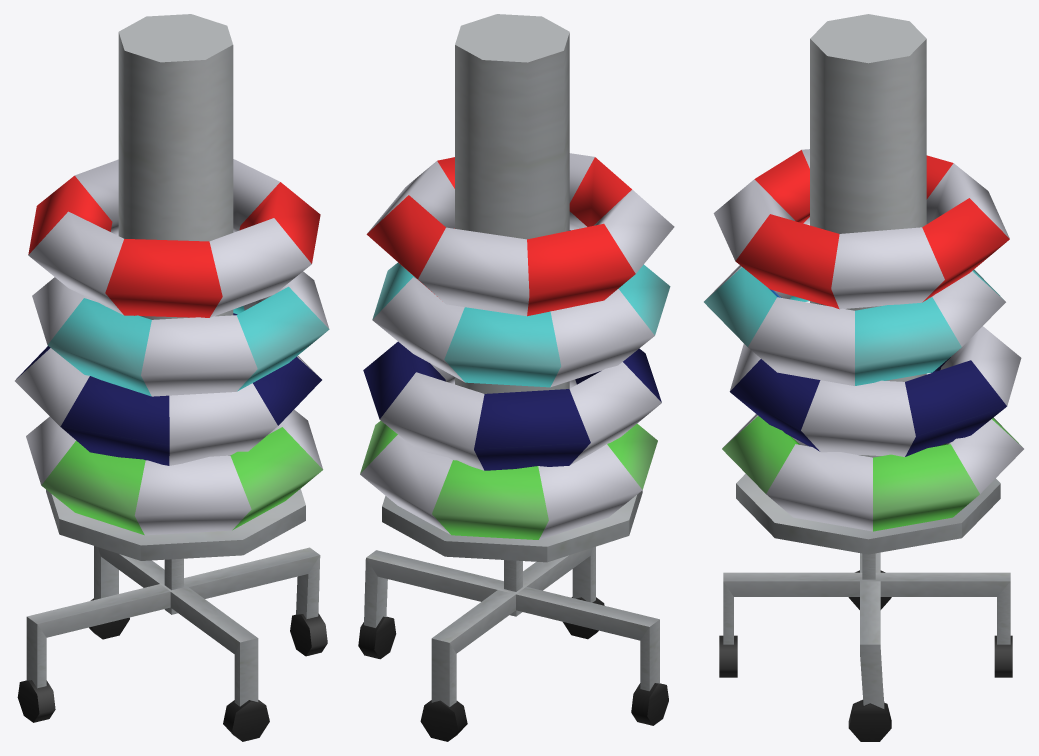
The model's file is RubbeRing_Stand_03.FBX.
3 renders of one model, left to right at view 1: azimuth 30°, elevation 25°; view 2: azimuth 150°, elevation 25°; view 3: azimuth 270°, elevation 25°, orthographic.
Parts seen in each view (by area): view 1: RubbeRing_Stand_03; view 2: RubbeRing_Stand_03; view 3: RubbeRing_Stand_03.
Part boxes in pixels (x1,y1,x2,y2): RubbeRing_Stand_03: [15, 14, 329, 741]; RubbeRing_Stand_03: [358, 14, 674, 741]; RubbeRing_Stand_03: [704, 14, 1023, 741].
Size of the model in its own units: 0.5277 by 0.5175 by 1.13.
